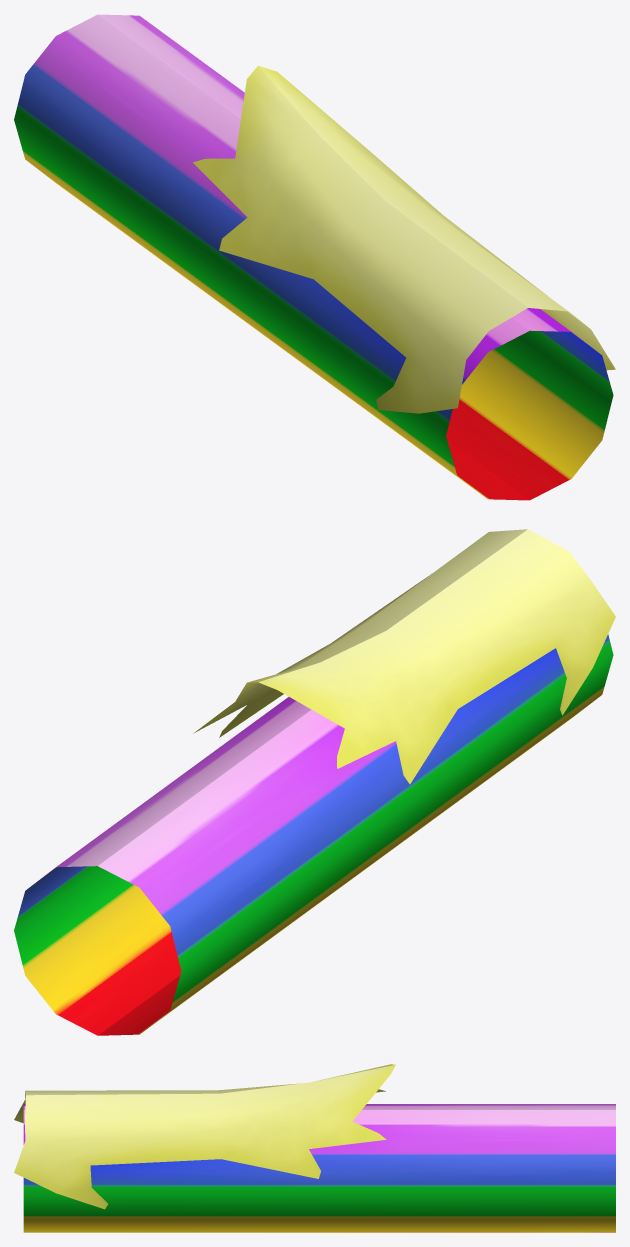
Rendered from cuerpo3.obj.
3 views of the same model, one above another, from view 1: azimuth 30°, elevation 25°; view 2: azimuth 150°, elevation 25°; view 3: azimuth 270°, elevation 25° (orthographic). The views are drawn at different scales.
Parts seen in each view (by area): view 1: cuerpo3; view 2: cuerpo3; view 3: cuerpo3.
Part boxes in pixels (x1=…): cuerpo3: x1=14, y1=14, x2=615, y2=500; cuerpo3: x1=14, y1=529, x2=615, y2=1035; cuerpo3: x1=14, y1=1064, x2=615, y2=1232.
Bounding box in the file's own units: 0.2007 × 0.2371 × 0.7998.
